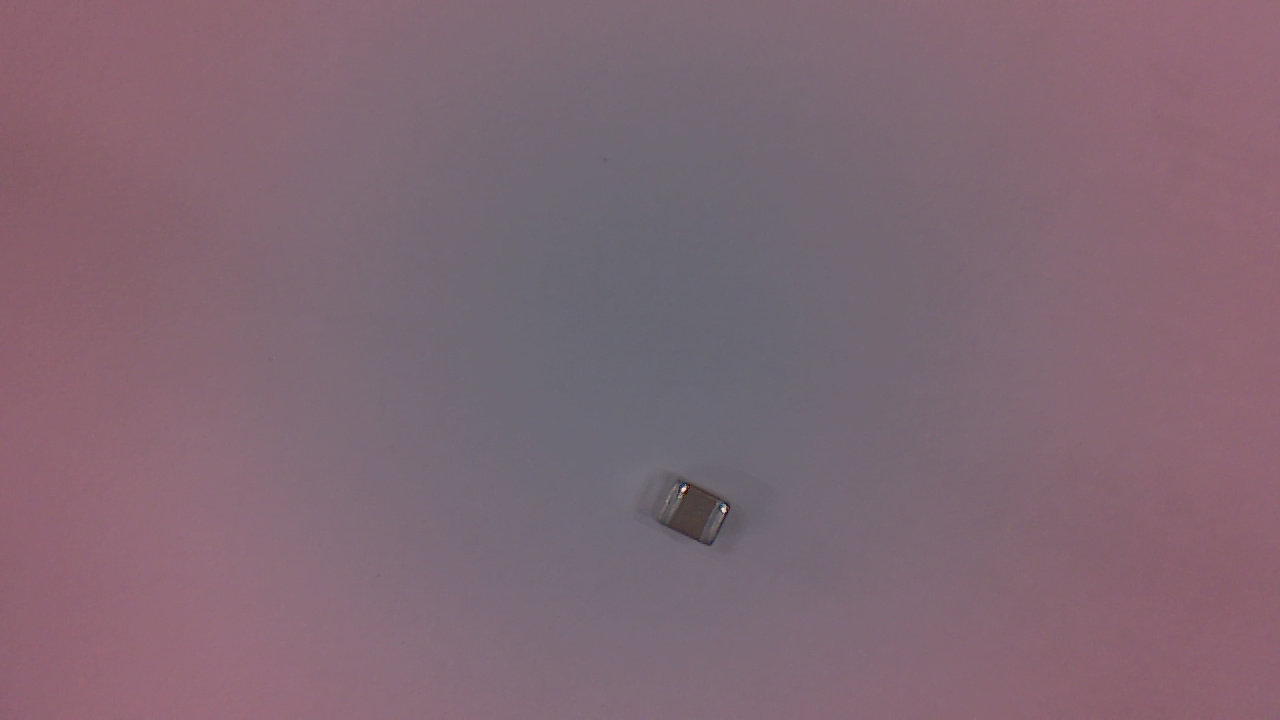Condensator: (657, 483, 736, 553)
